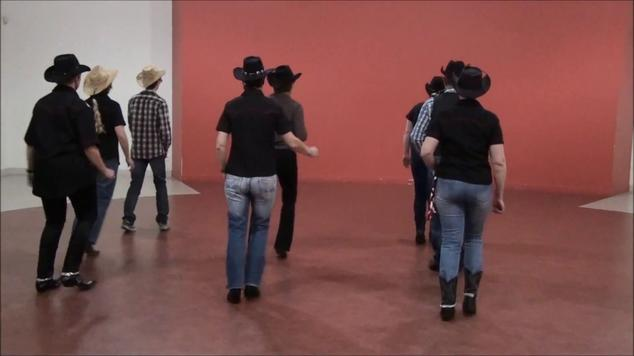hands_up: (212, 37, 289, 295)
stay: (124, 50, 170, 239)
